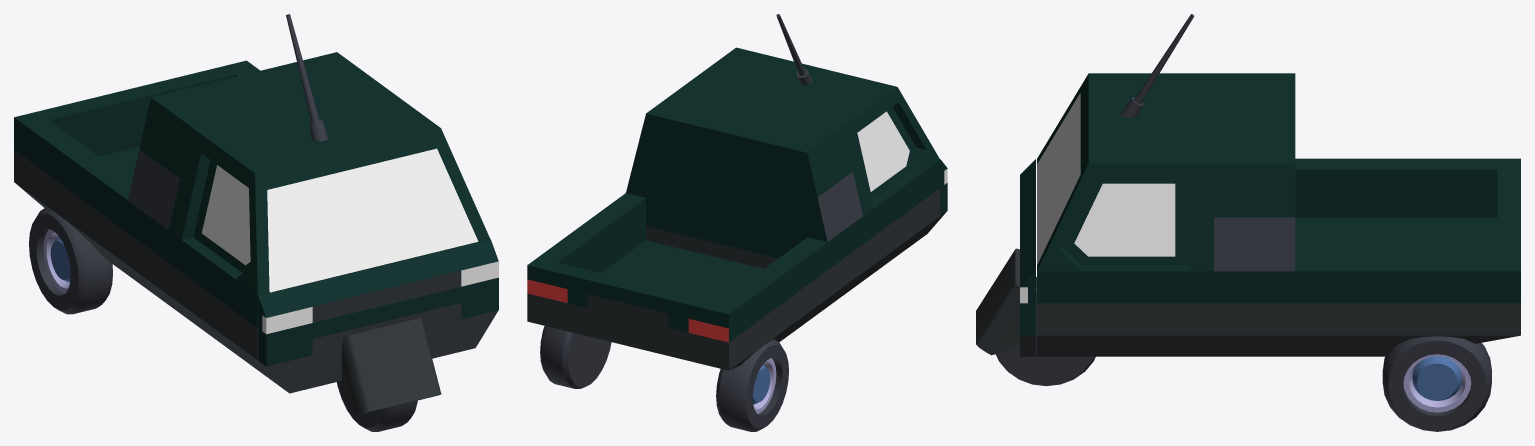
The model's file is Three wheeler.fbx.
3 views of the same model, side by side, from view 1: azimuth 30°, elevation 25°; view 2: azimuth 150°, elevation 25°; view 3: azimuth 270°, elevation 25° (orthographic). The views are drawn at different scales.
Visible parts, largest first — view 1: mergedBlocks; view 2: mergedBlocks; view 3: mergedBlocks.
Part boxes in pixels (x1,y1,x2,y2): mergedBlocks: [14, 14, 498, 431]; mergedBlocks: [527, 14, 947, 431]; mergedBlocks: [976, 14, 1520, 431].
Size of the model in its own units: 15.33 by 22.3 by 30.66.
